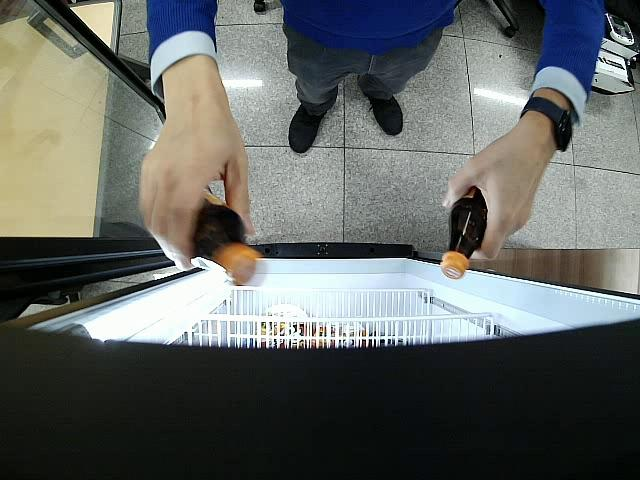00_hand: (137, 83, 251, 269), (442, 120, 555, 259)
17_vita500: (193, 188, 263, 285), (441, 185, 487, 280)
